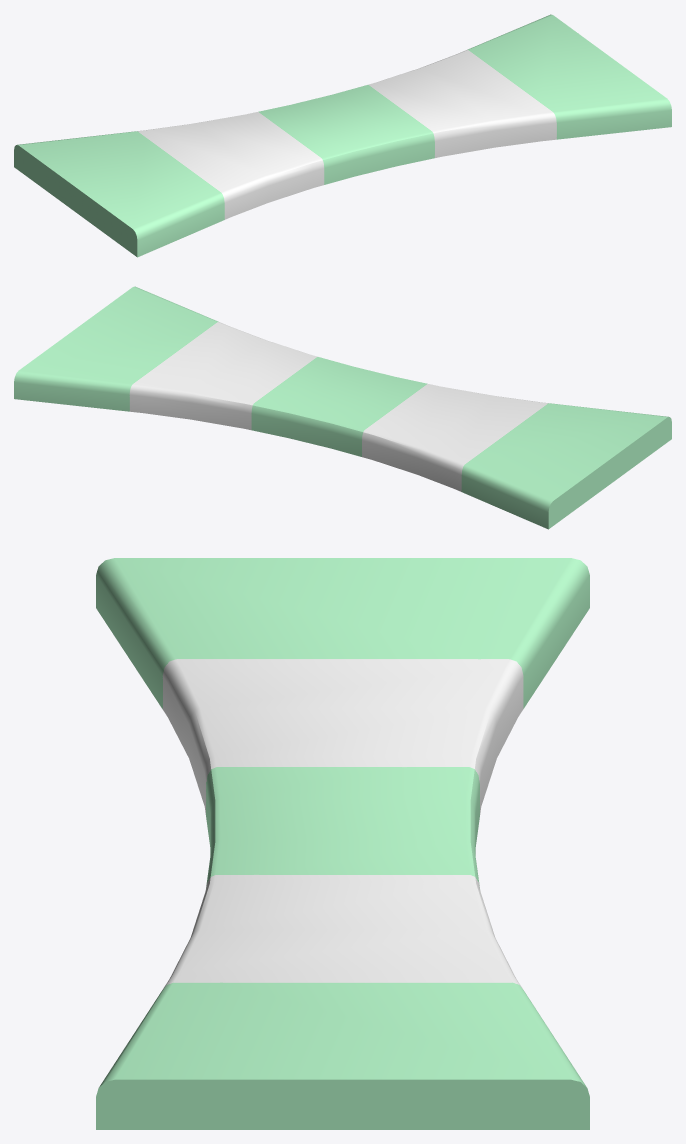
File: RoadNarrow_green.fbx
3 renders of one model, top to bottom at view 1: azimuth 30°, elevation 25°; view 2: azimuth 150°, elevation 25°; view 3: azimuth 270°, elevation 25°, orthographic. The views are drawn at different scales.
Visible parts, largest first — view 1: RoadNarrow_green; view 2: RoadNarrow_green; view 3: RoadNarrow_green.
Boxes of the visible parts, bbox=[...] form: RoadNarrow_green: bbox=[14, 14, 671, 257]; RoadNarrow_green: bbox=[14, 286, 671, 529]; RoadNarrow_green: bbox=[96, 558, 589, 1129].
Size of the model in its own units: 750 by 33.61 by 300.
1 material, 1 textured.
